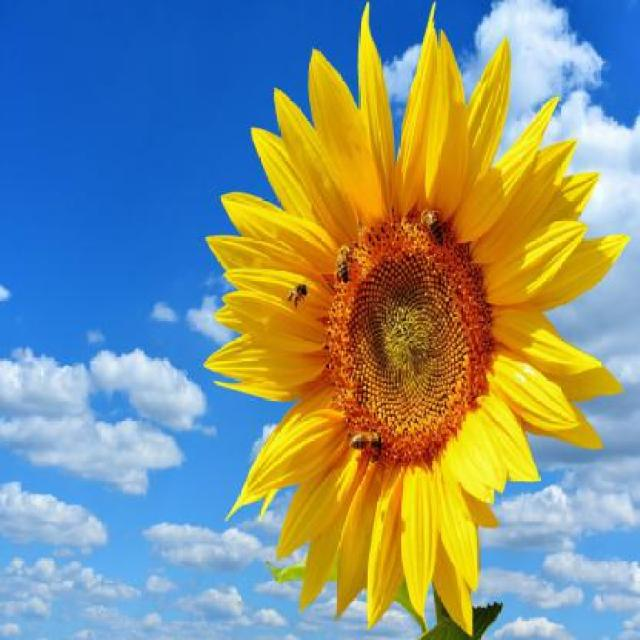sunflower: (211, 18, 624, 620)
